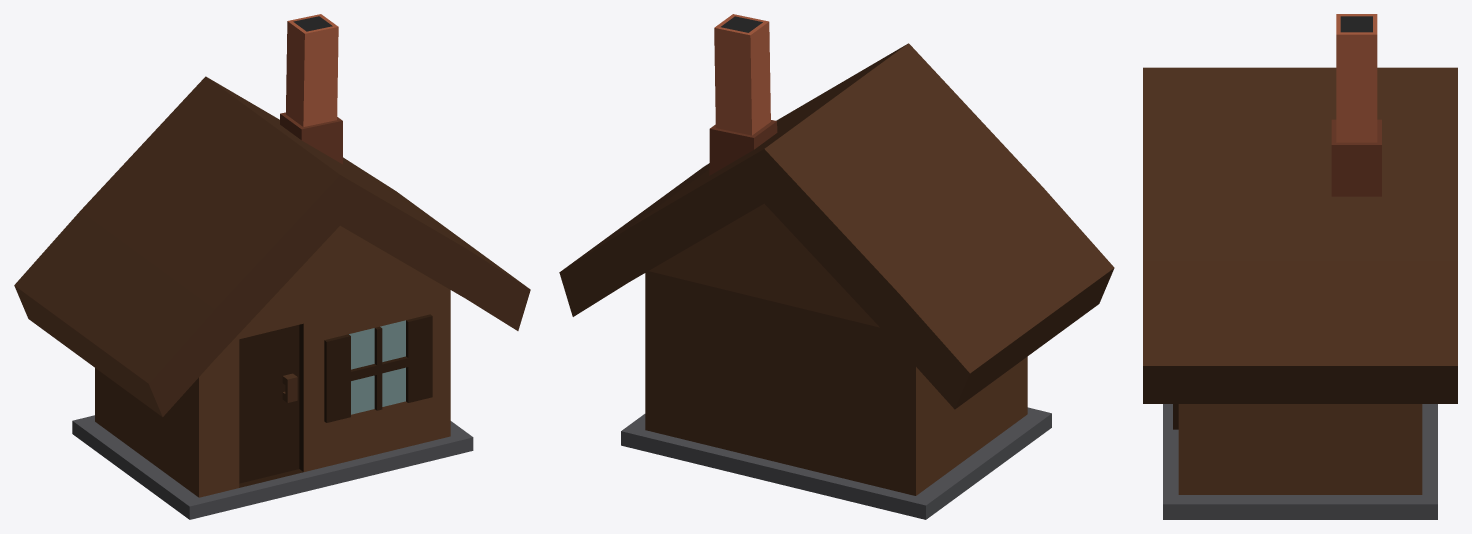
The model's file is Haus.fbx.
3 views of the same model, side by side, from view 1: azimuth 30°, elevation 25°; view 2: azimuth 150°, elevation 25°; view 3: azimuth 270°, elevation 25° (orthographic). The views are drawn at different scales.
Parts seen in each view (by area): view 1: pCube1; view 2: pCube1; view 3: pCube1.
Boxes of the visible parts, x1,y1,x2,y2 form: pCube1: (14, 14, 530, 519); pCube1: (559, 14, 1114, 519); pCube1: (1143, 14, 1457, 519).
Bounding box in the file's own units: 21.56 × 20.8 × 13.14.
